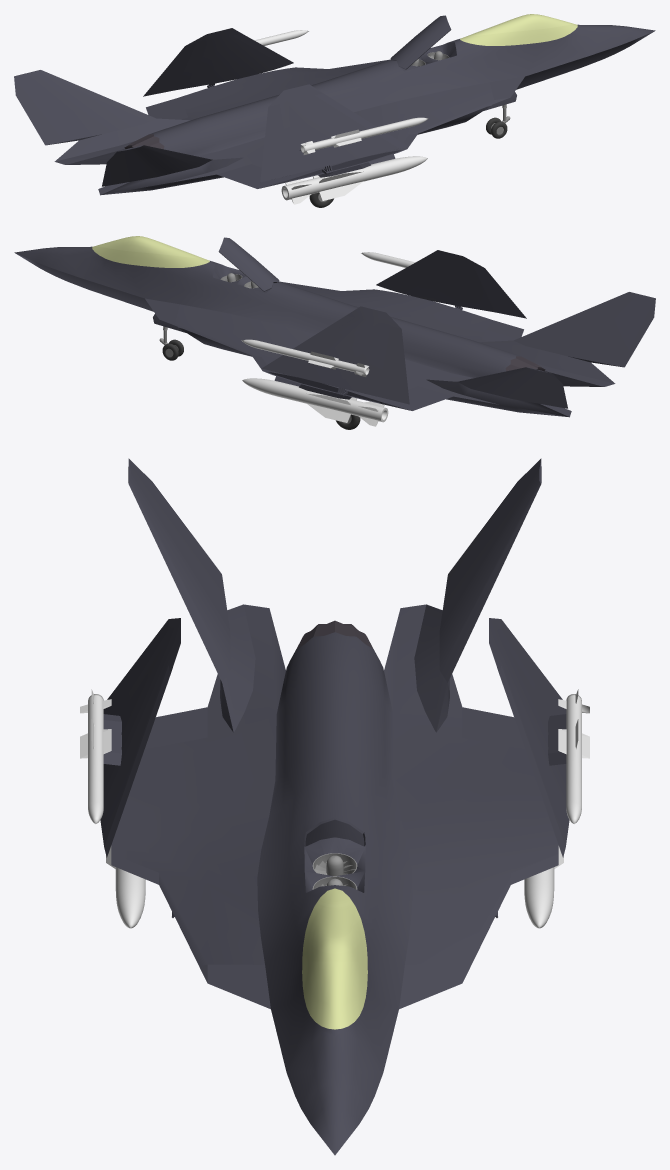
3 renders of one model, top to bottom at view 1: azimuth 30°, elevation 25°; view 2: azimuth 150°, elevation 25°; view 3: azimuth 270°, elevation 25°, orthographic. The views are drawn at different scales.
Parts seen in each view (by area): view 1: FAT BODY, WING BASE, KEEL 22d, WING CONSOLE L.001, WING CONSOLE L, KEELBASE, X-58USHKE.000, CANOPY, FAT BODY.001, RVV-SD.007, RVV-SD.005, object 59; view 2: FAT BODY, WING BASE, KEEL 22d, WING CONSOLE L, WING CONSOLE L.001, KEELBASE, X-58USHKE.003, CANOPY, FAT BODY.001, RVV-SD.005, RVV-SD.007, object 59; view 3: WING BASE, FAT BODY, KEEL 22d, CANOPY, WING CONSOLE L, WING CONSOLE L.001, KEELBASE, RVV-SD.005, RVV-SD.007, X-58USHKE.003, X-58USHKE.000, FAT BODY.001.
Boxes of the visible parts, <box> form: FAT BODY: <box>66,24,655,194</box>; WING BASE: <box>55,59,524,194</box>; KEEL 22d: <box>14,70,212,186</box>; WING CONSOLE L.001: <box>260,84,407,182</box>; WING CONSOLE L: <box>143,28,293,96</box>; KEELBASE: <box>55,118,243,194</box>; X-58USHKE.000: <box>281,156,427,204</box>; CANOPY: <box>460,14,577,45</box>; FAT BODY.001: <box>390,15,451,69</box>; RVV-SD.007: <box>300,117,428,154</box>; RVV-SD.005: <box>254,30,308,45</box>; object 59: <box>124,134,164,149</box>; FAT BODY: <box>14,246,603,416</box>; WING BASE: <box>145,281,614,416</box>; KEEL 22d: <box>457,292,655,408</box>; WING CONSOLE L: <box>262,306,409,404</box>; WING CONSOLE L.001: <box>376,250,526,318</box>; KEELBASE: <box>426,340,614,416</box>; X-58USHKE.003: <box>242,378,388,426</box>; CANOPY: <box>92,236,209,267</box>; FAT BODY.001: <box>218,237,279,291</box>; RVV-SD.005: <box>241,339,369,376</box>; RVV-SD.007: <box>361,252,415,267</box>; object 59: <box>505,356,545,371</box>; WING BASE: <box>111,604,558,1009</box>; FAT BODY: <box>257,632,412,1155</box>; KEEL 22d: <box>128,458,541,682</box>; CANOPY: <box>302,888,367,1029</box>; WING CONSOLE L: <box>489,618,569,857</box>; WING CONSOLE L.001: <box>100,618,180,857</box>; KEELBASE: <box>220,604,449,732</box>; RVV-SD.005: <box>558,689,589,823</box>; RVV-SD.007: <box>80,689,111,823</box>; X-58USHKE.003: <box>524,846,563,928</box>; X-58USHKE.000: <box>106,846,145,928</box>; FAT BODY.001: <box>304,817,365,846</box>.
Bounding box in the file's own units: 367 × 79.92 × 136.
